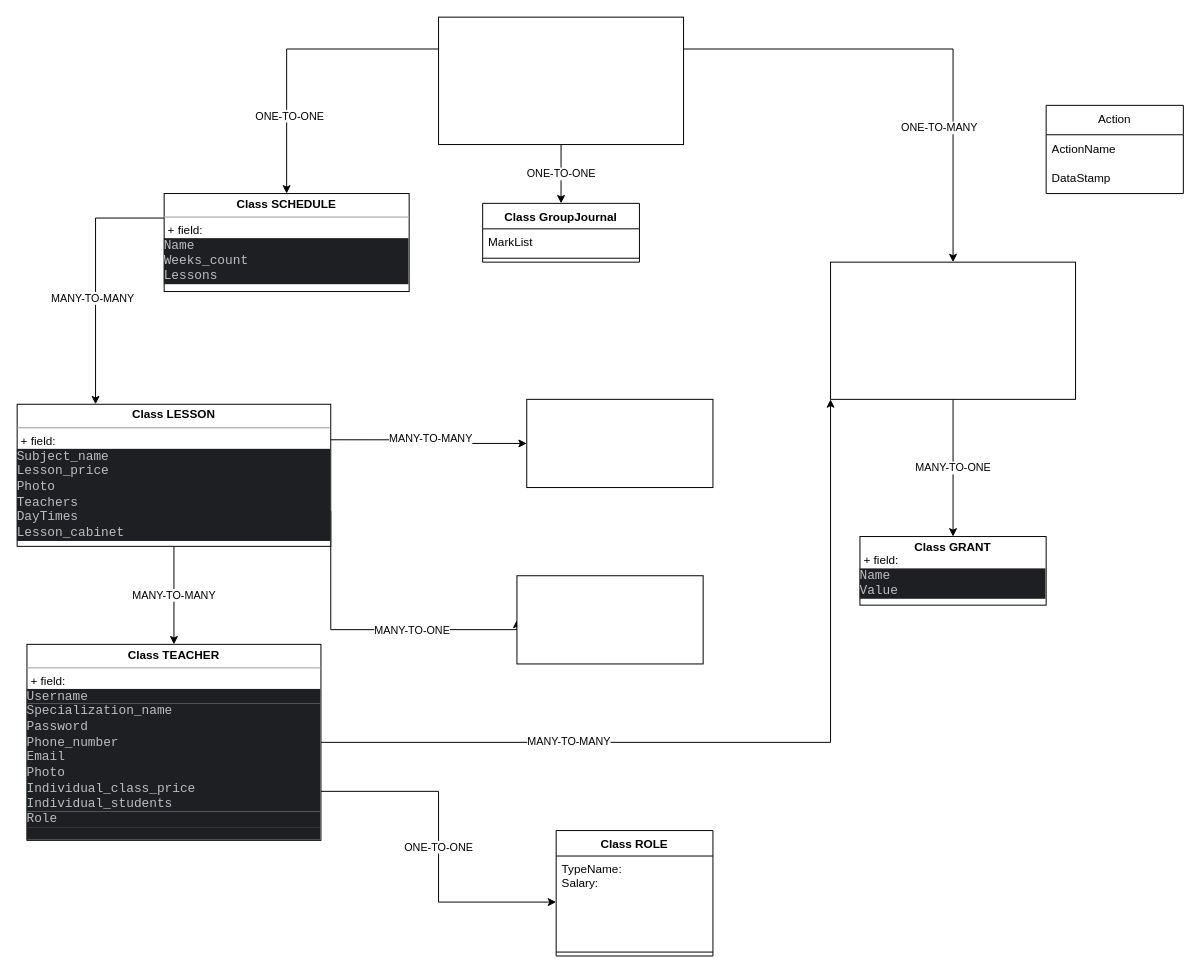
Image size: 1201x973. Some labels were removed from this diagram. Each missing label, with the centre of its shape:
Class CABINET + field: Name Floor: [609,619]
Class DAYTIME + field: Day_name Start_time End_time: [619,443]
Class GROUP + field: Name Period_price Students Schedule GroupJournal: [561,80]
Class STUDENT + field: Name Gender Age Photo Grant: [953,330]
